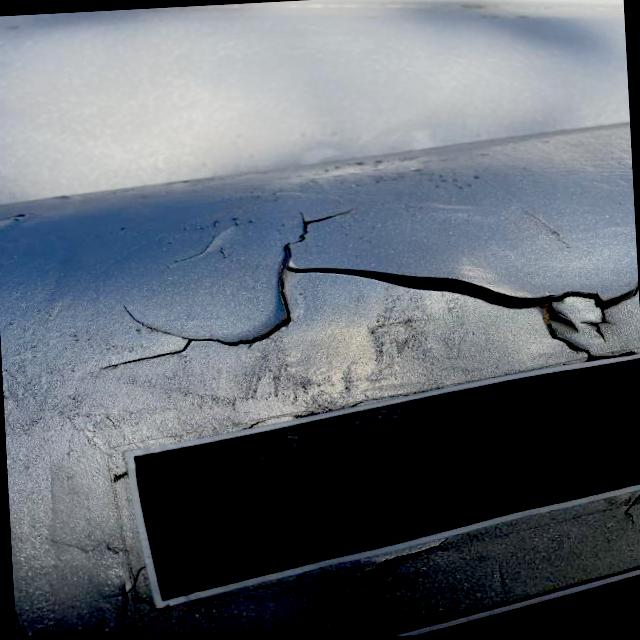crack: (307, 250, 618, 332), (104, 246, 296, 376), (286, 206, 346, 248)
